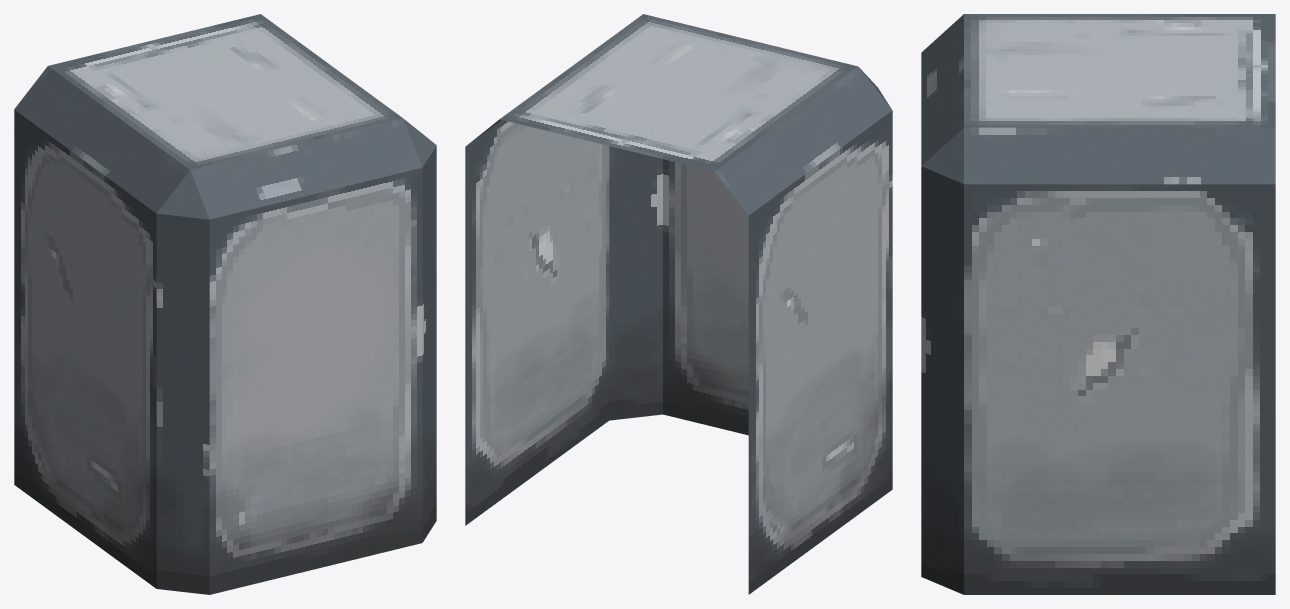
Rendered from stone.glb.
The picture shows the model from 3 angles, left to right: view 1: azimuth 30°, elevation 25°; view 2: azimuth 150°, elevation 25°; view 3: azimuth 270°, elevation 25°; orthographic projection. The views are drawn at different scales.
Visible parts, largest first — view 1: Cube.001; view 2: Cube.001; view 3: Cube.001.
Boxes of the visible parts, x1,y1,x2,y2 form: Cube.001: (14, 14, 436, 594); Cube.001: (465, 14, 892, 594); Cube.001: (921, 14, 1275, 594).
Bounding box in the file's own units: 1 × 1.4 × 1.
1 material, 1 textured.
